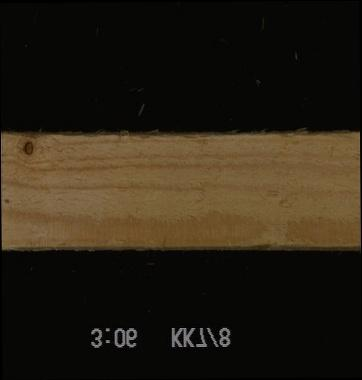dry_knot: (19, 138, 39, 156)
